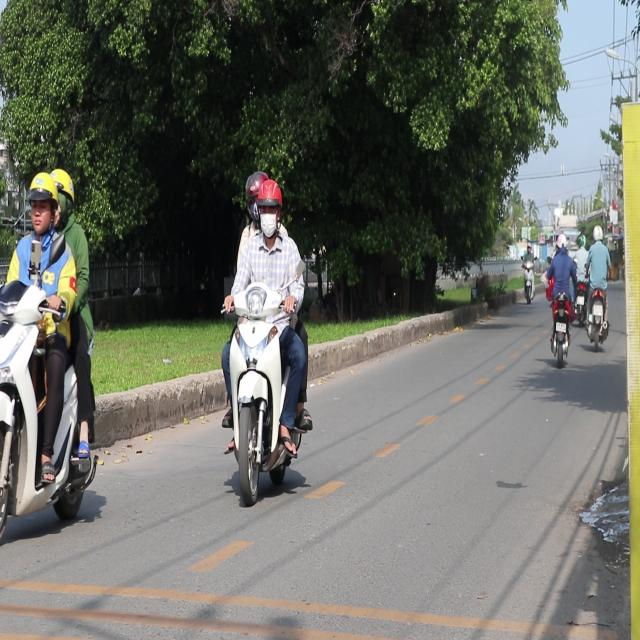helmet: (25, 170, 57, 238), (254, 176, 283, 238), (50, 168, 75, 220), (244, 172, 264, 216)
licenseplate: (0, 164, 105, 549), (216, 170, 314, 502)
